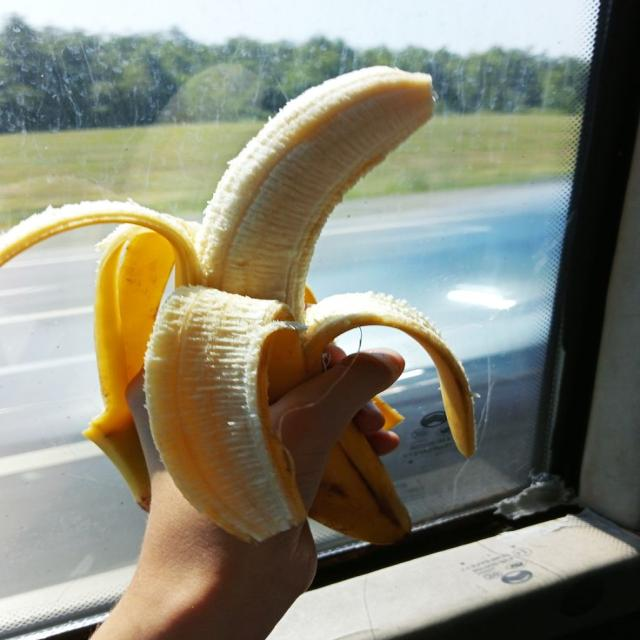banana: (0, 68, 474, 540)
